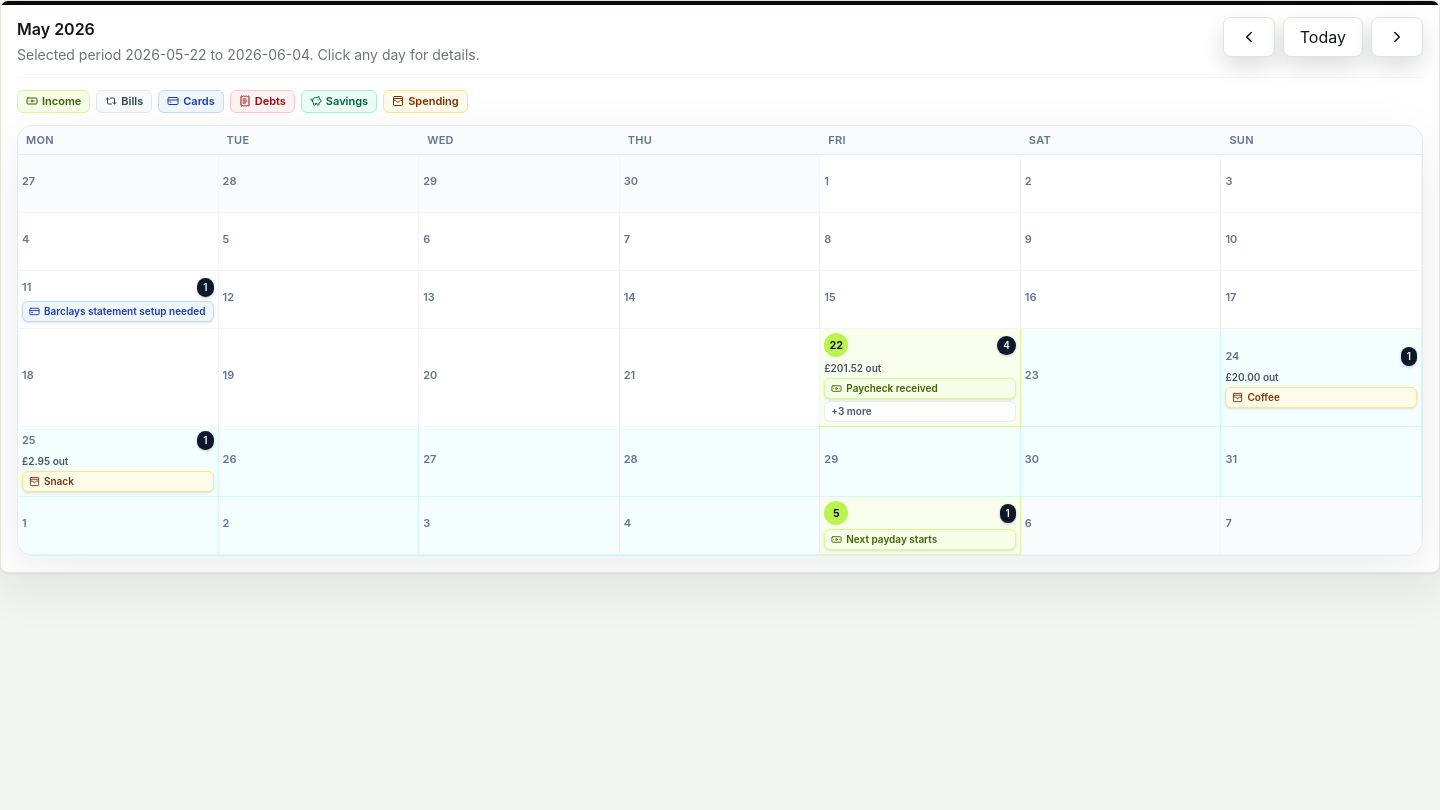
Test case: calendar page › shows a fresh linked-card top-up separately from a completed additional top-up on the calendar
The image size is (1440, 810).
Click the button with aria-label "Open 22 May 2026" at (921, 378), box [820,329,1021,427]
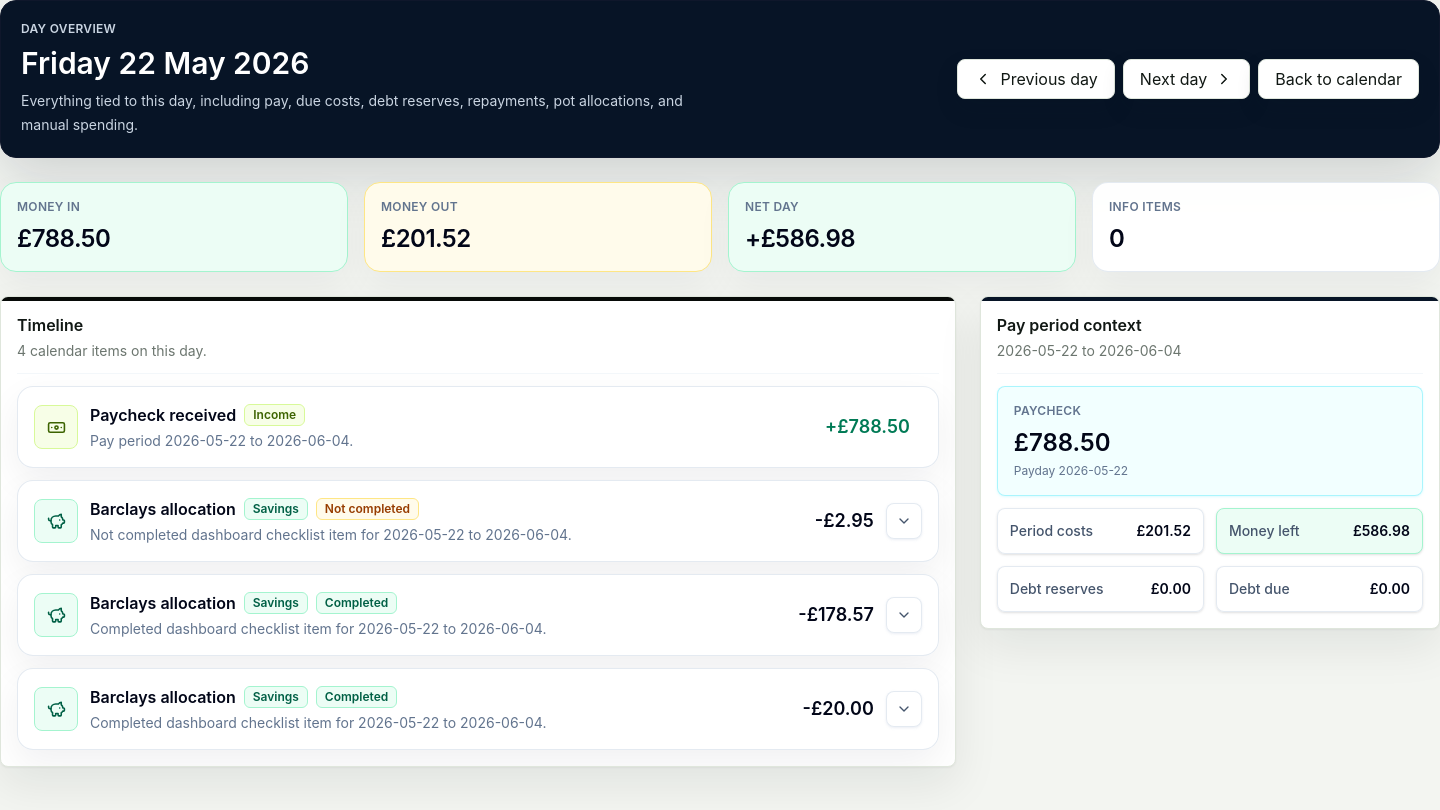
expect the text "Barclays allocation" is shown: met, box [90,687,236,707]
expect the text "Completed" in the row of "-£20.00" is shown: met, box [325,689,388,704]
expect the text "Not completed" is shown: met, box [316,498,419,520]
Click the button named "Show breakdown for Barclays allocation -£20.00" at (904, 709), box [886,691,922,727]
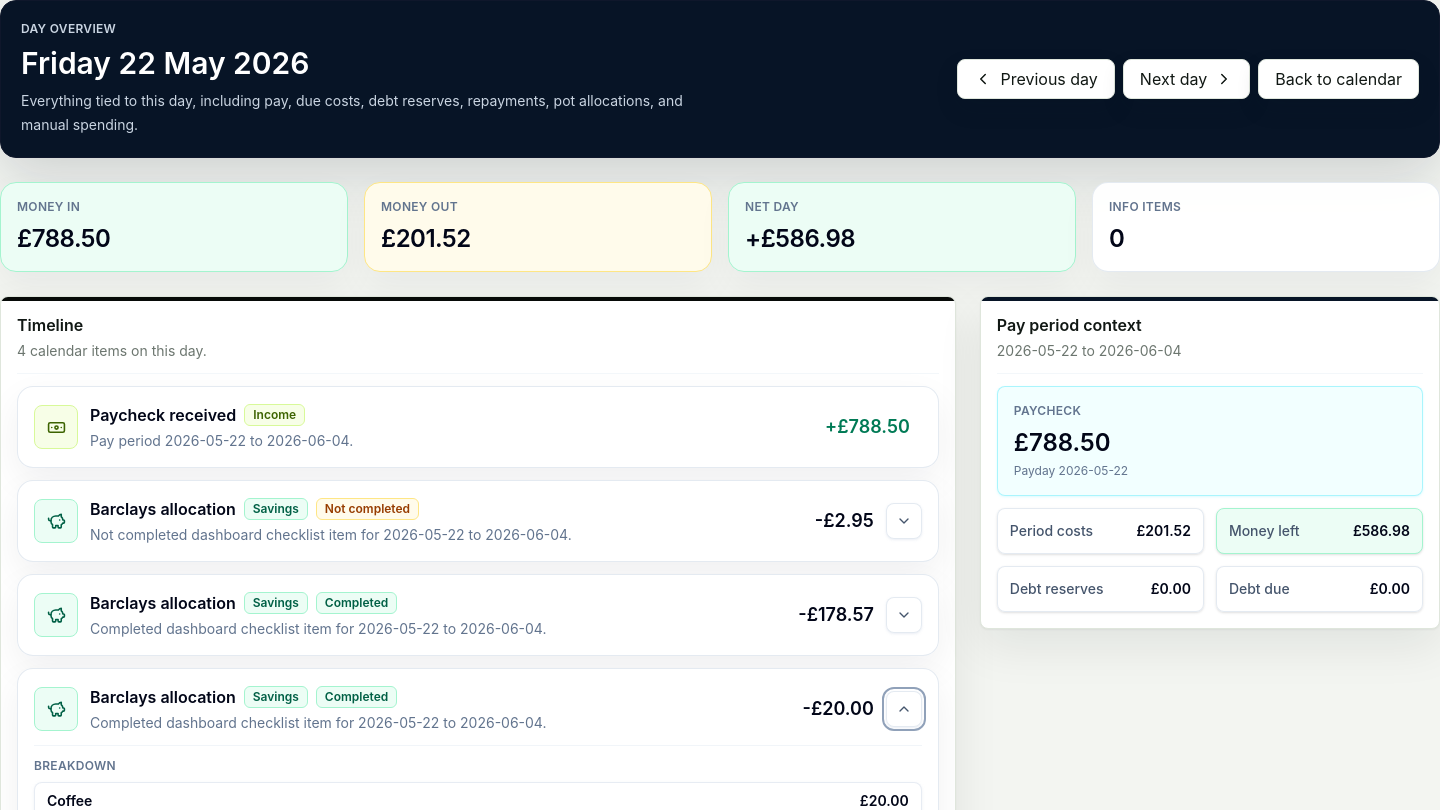
Click the button named "Show breakdown for Barclays allocation -£2.95" at (904, 521), box [886,503,922,539]
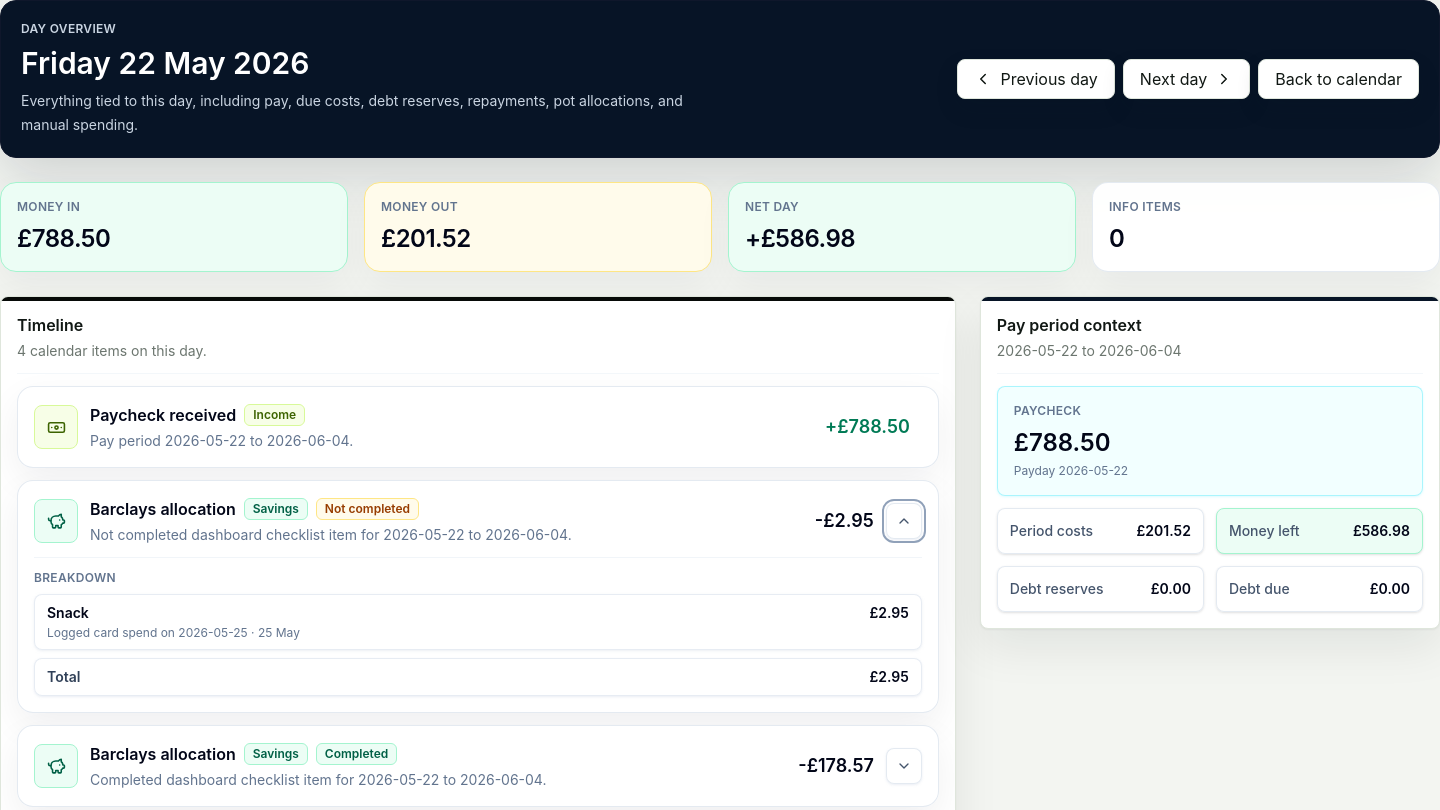
expect the text "Coffee" is not shown: met
expect the text "Snack" is shown: met, box [47,604,89,621]
